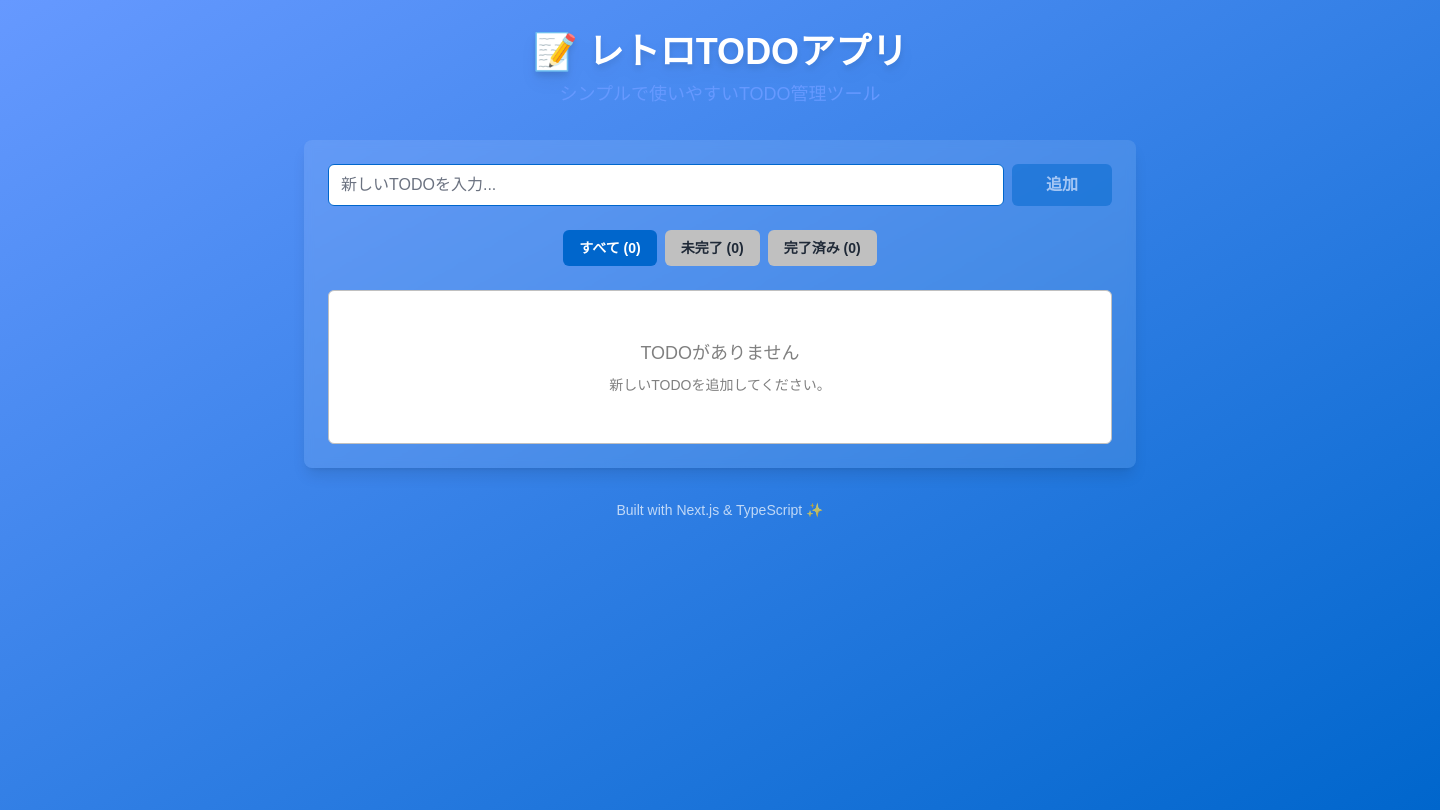
Test: TodoApp Component Integration Tests › should add new todo when form is submitted
This screenshot has width=1440, height=810.
Expected: the text "TODOがありません" is shown, [640,343,800,363]
In the field with placeholder "新しいTODOを入力...": (666, 185) [328,164,1004,206], type "New test todo"
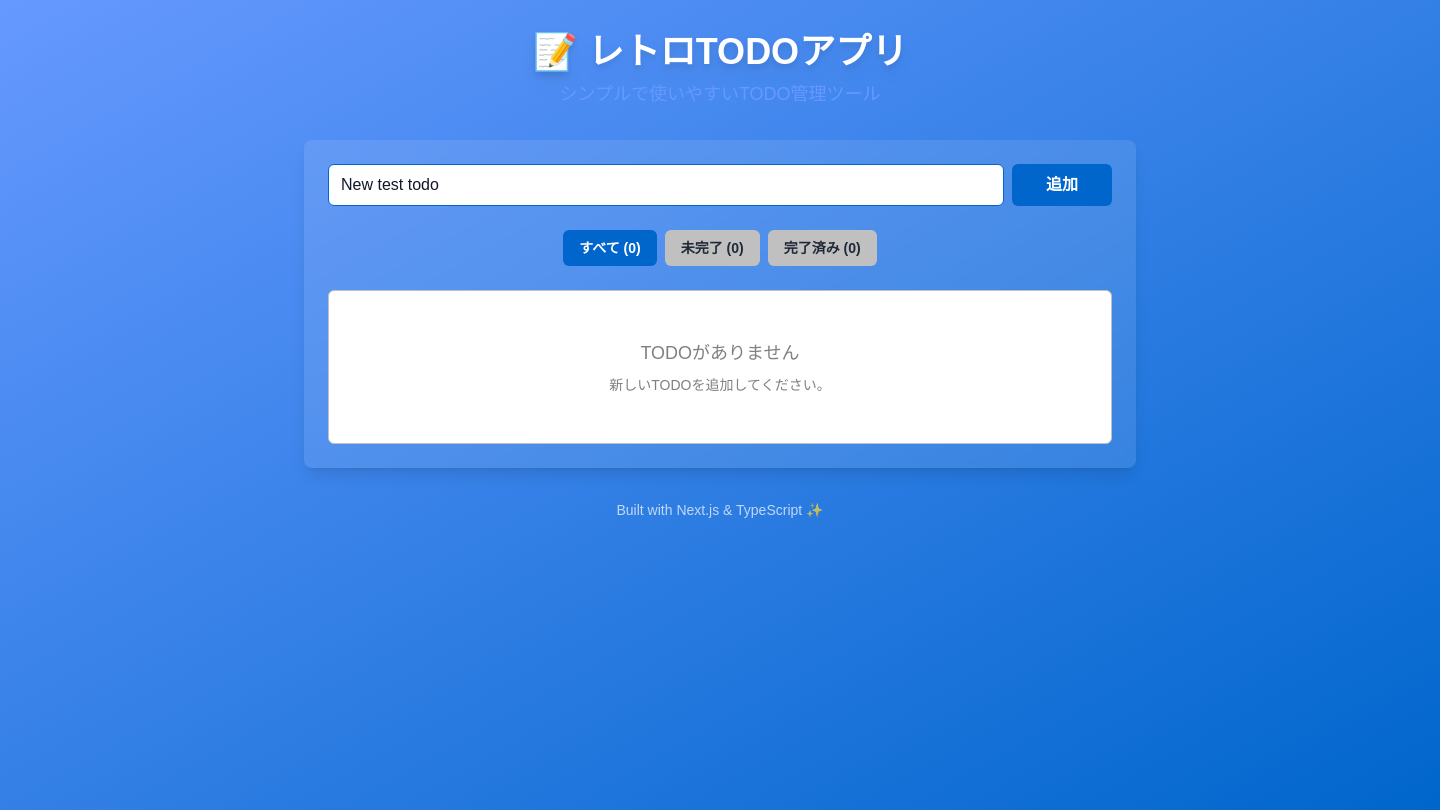
Result: the button "追加" is enabled
Click the button "追加": (1062, 185) [1012,164,1112,206]
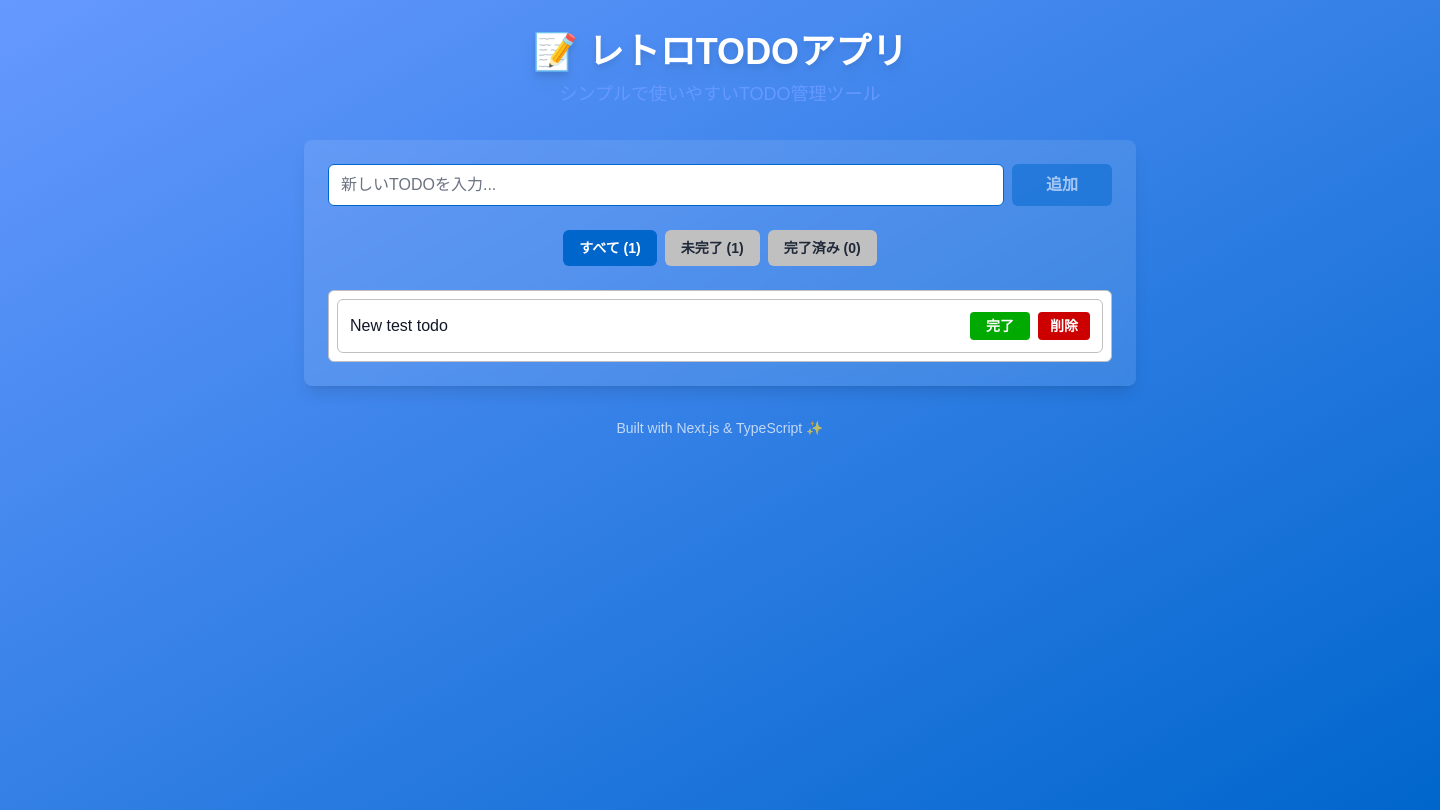
Result: the text "New test todo" is shown at [350,317,448,334]
Result: the field with placeholder "新しいTODOを入力..." is empty at [328,164,1004,206]
